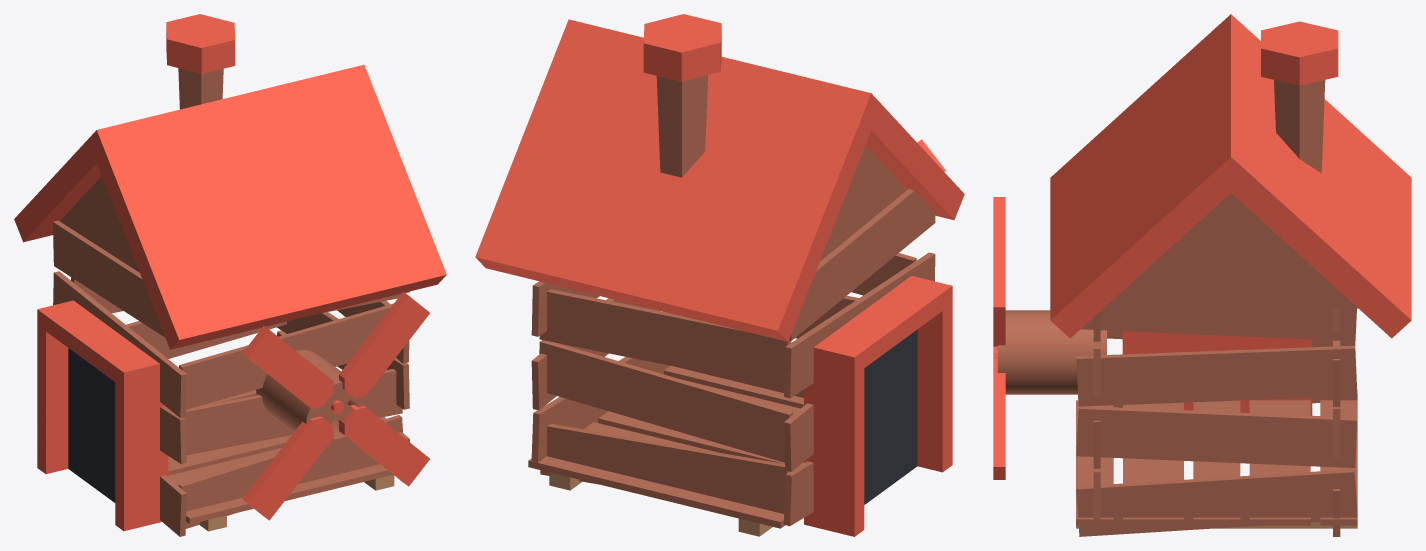
File: wood_factory.fbx
3 views of the same model, side by side, from view 1: azimuth 30°, elevation 25°; view 2: azimuth 150°, elevation 25°; view 3: azimuth 270°, elevation 25° (orthographic). The views are drawn at different scales.
Parts seen in each view (by area): view 1: mergedBlocks; view 2: mergedBlocks; view 3: mergedBlocks.
Part boxes in pixels (box(x1,y1,x2,y2)): mergedBlocks: box(14, 14, 446, 536); mergedBlocks: box(475, 14, 964, 536); mergedBlocks: box(993, 14, 1411, 536).
Bounding box in the file's own units: 13 × 17.25 × 14.85.
